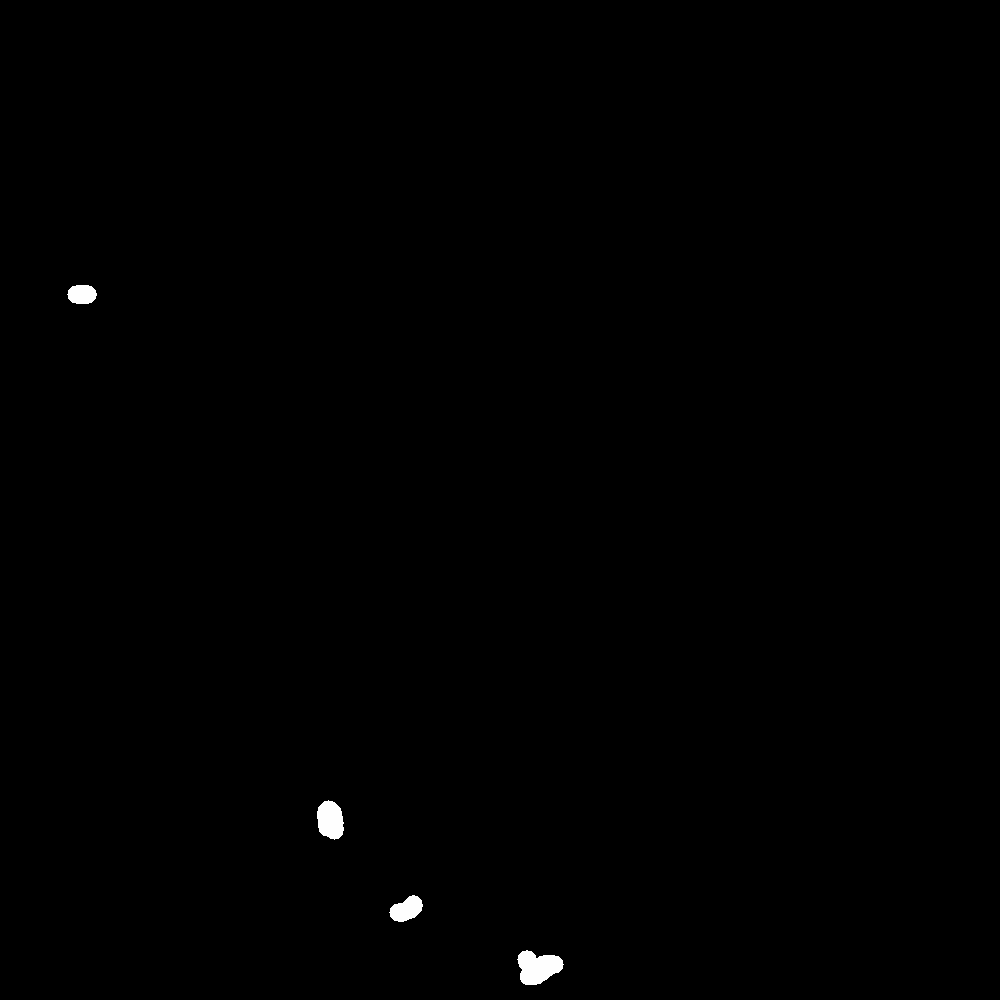illegal: (64, 283, 105, 305)
